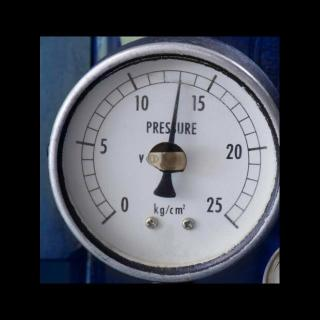gauge: (40, 36, 280, 284), (203, 195, 245, 237), (95, 193, 135, 233), (156, 143, 188, 173), (176, 69, 184, 79)
